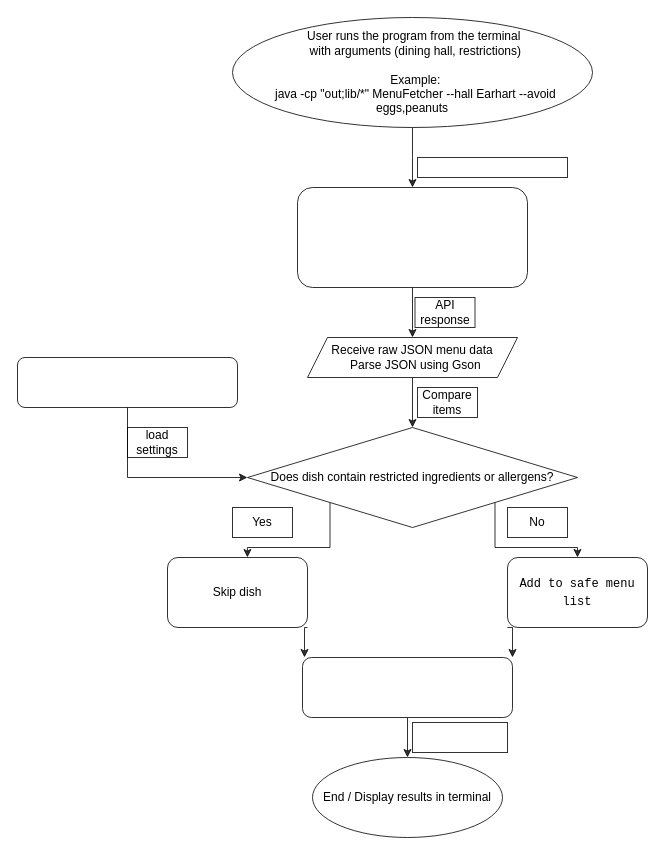
This 665x855 diagram has some shape labels left out. The box of each missing label's shape, as (x1, y1, x2, y2) in pixels:
Format safe dishes by dining hall & station: (302, 656, 512, 718)
parse command-line arguments: (416, 156, 568, 178)
Print output: (412, 722, 508, 752)
Read user dietary restrictions (e.g., avoid beef, nuts): (16, 356, 238, 408)
Send HTTP GET request to Purdue Dining API using Java HttpClient: (296, 186, 528, 288)
